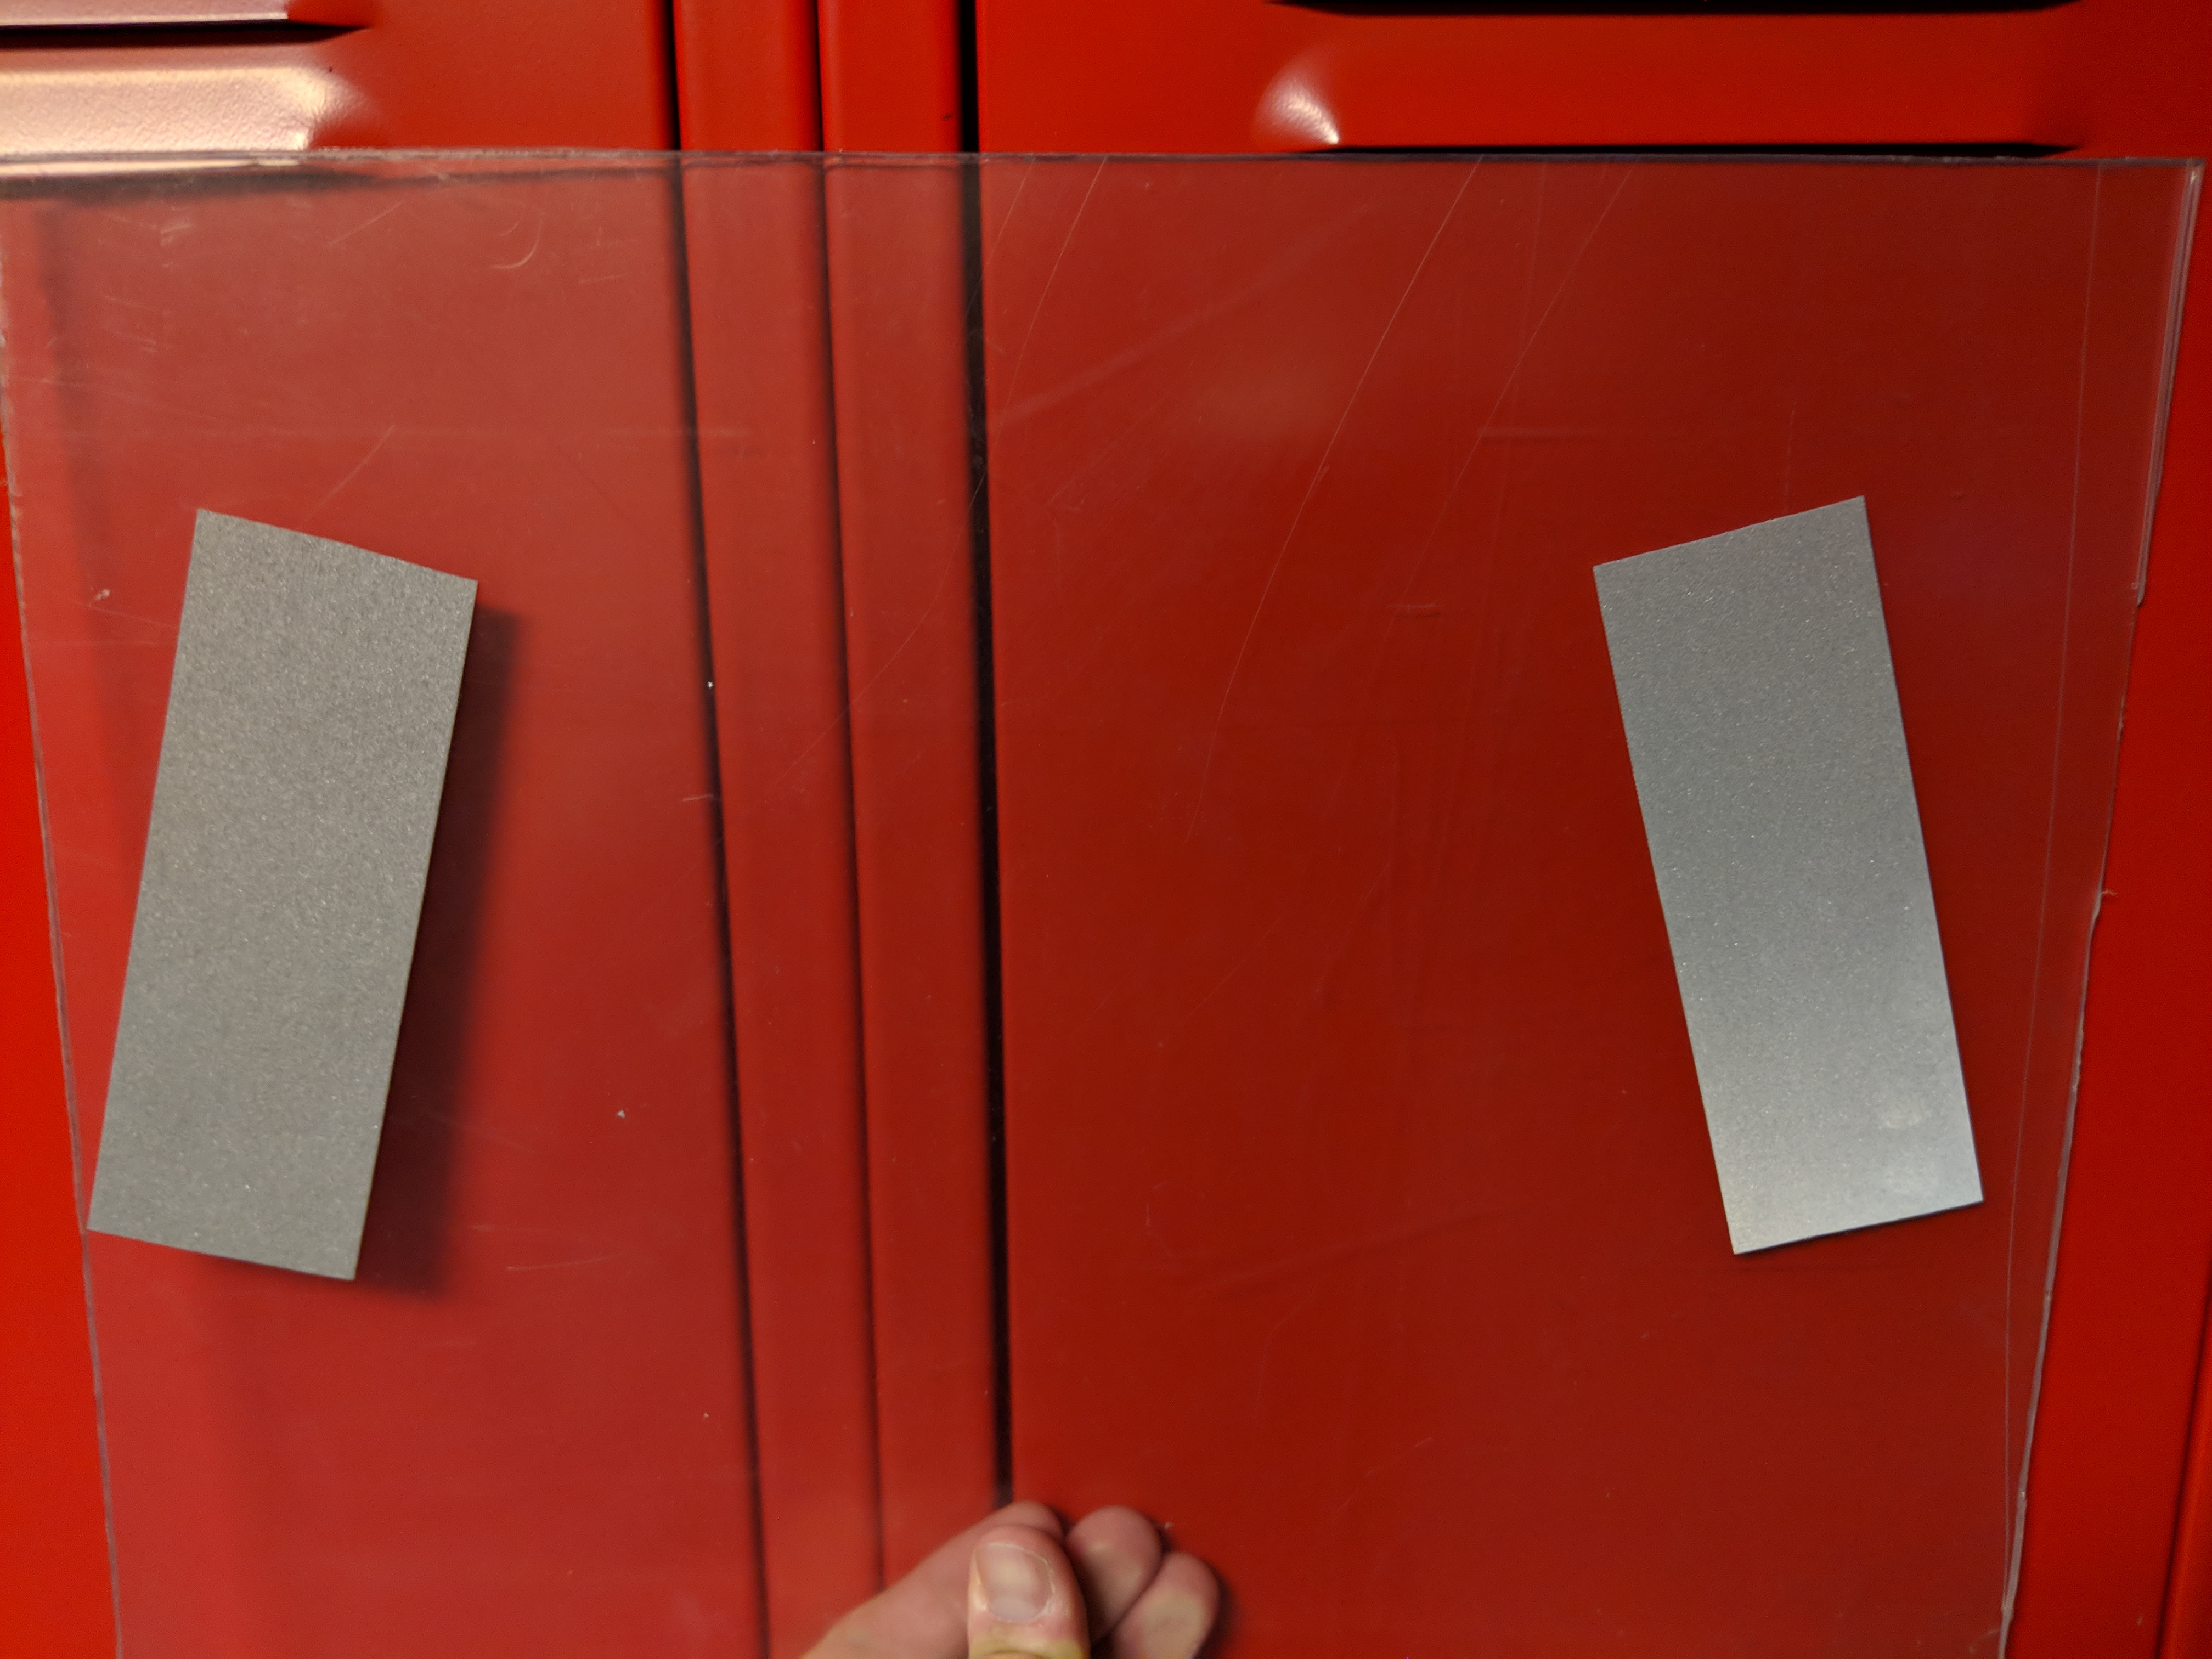vision_target: (64, 483, 2005, 1305)
